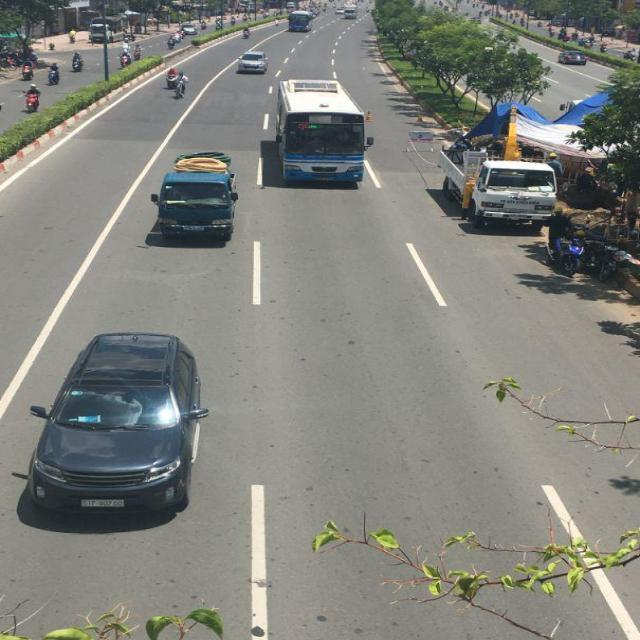bus: (277, 79, 367, 187), (286, 13, 310, 33)
car: (24, 332, 217, 523), (237, 52, 268, 74), (560, 52, 589, 66), (341, 8, 357, 20)
motorcycle: (168, 73, 187, 99), (48, 65, 60, 84)
truck: (433, 146, 558, 232), (152, 154, 237, 245)
